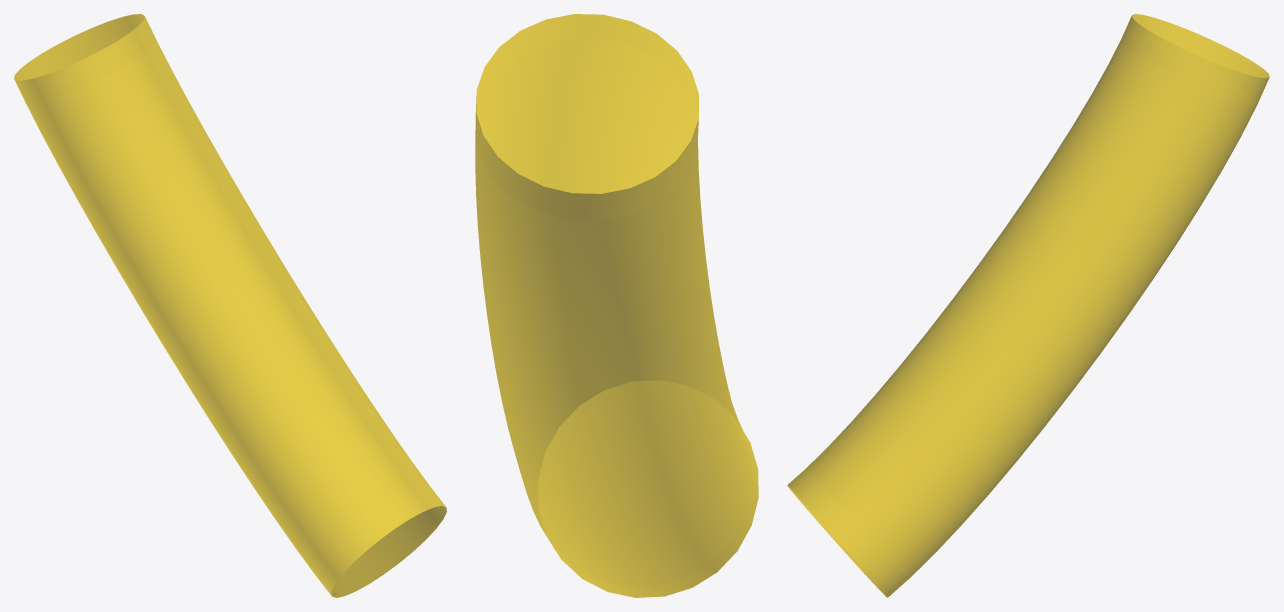
The model's file is Event_75125125_track_75.fbx.
3 renders of one model, left to right at view 1: azimuth 30°, elevation 25°; view 2: azimuth 150°, elevation 25°; view 3: azimuth 270°, elevation 25°, orthographic. The views are drawn at different scales.
Visible parts, largest first — view 1: Model; view 2: Model; view 3: Model.
Boxes of the visible parts, bbox=[...] form: Model: bbox=[14, 14, 446, 597]; Model: bbox=[475, 14, 758, 597]; Model: bbox=[787, 14, 1269, 597].
Size of the model in its own units: 0.0816 by 0.15 by 0.1277.
